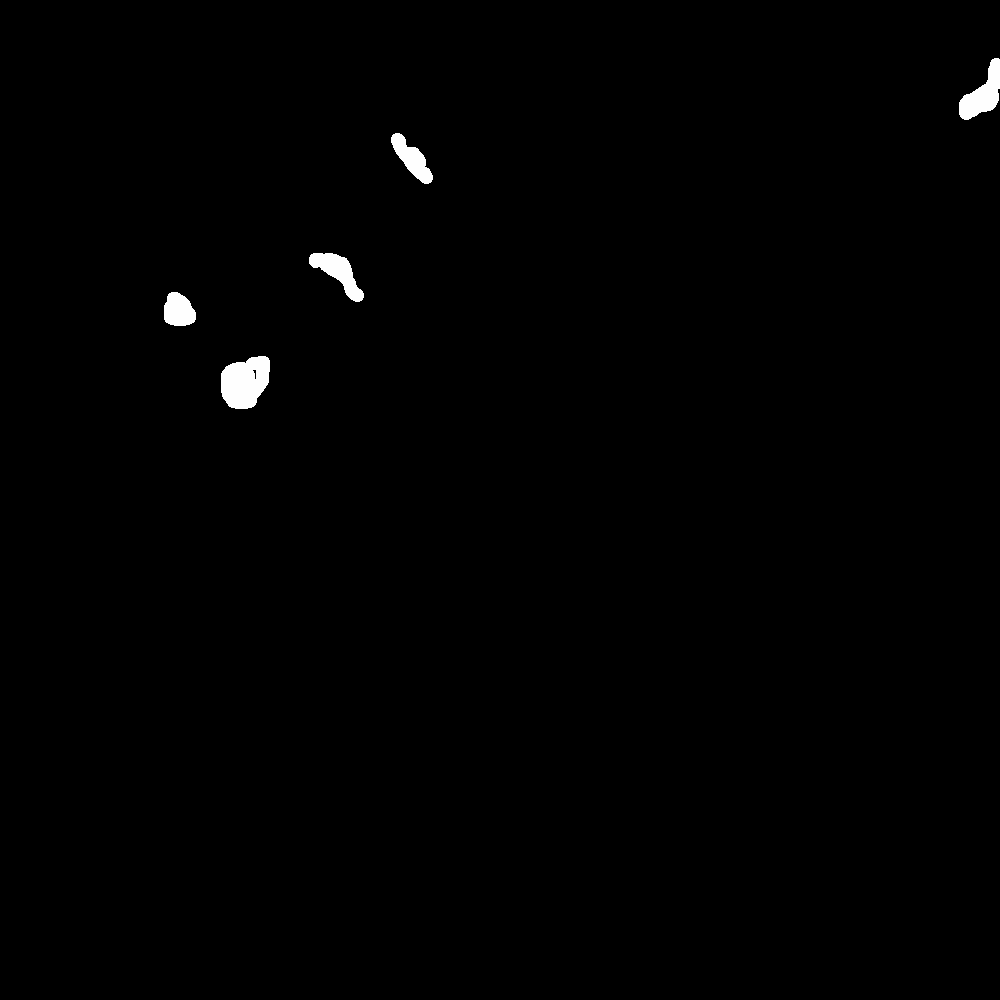illegal: (745, 778, 857, 792)
